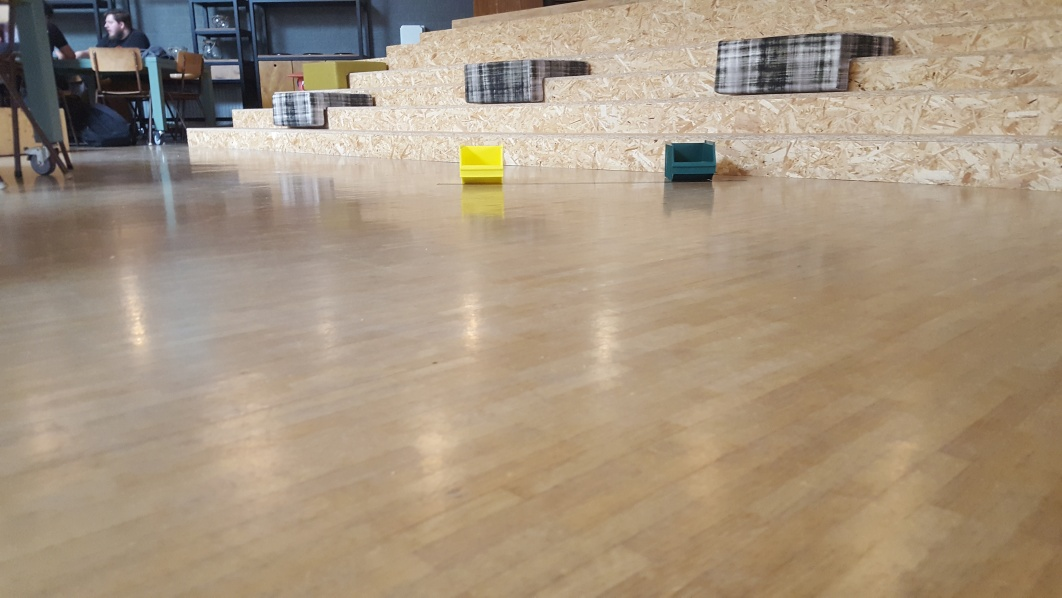tray: (449, 141, 512, 189), (662, 142, 722, 184)
